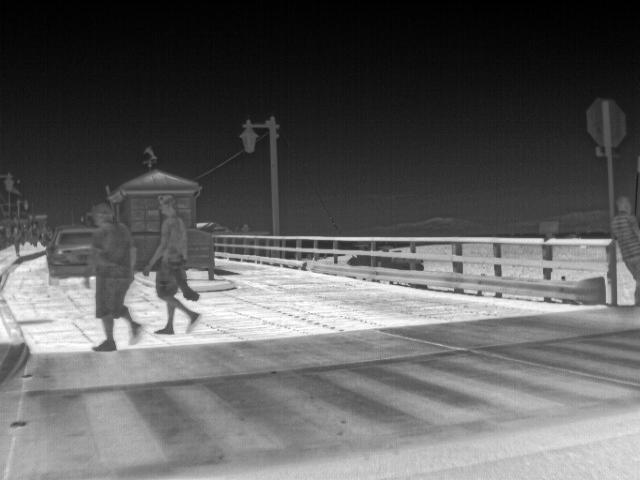car: (46, 225, 101, 284)
person: (85, 202, 144, 352), (142, 196, 202, 337), (613, 195, 640, 304), (10, 225, 23, 256), (29, 222, 42, 248)
